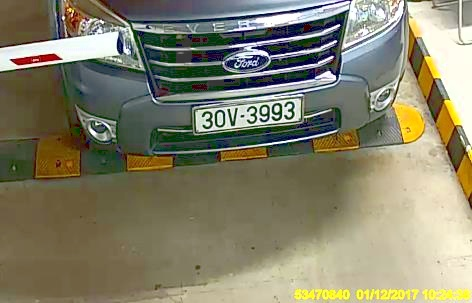plate: (190, 98, 300, 131)
